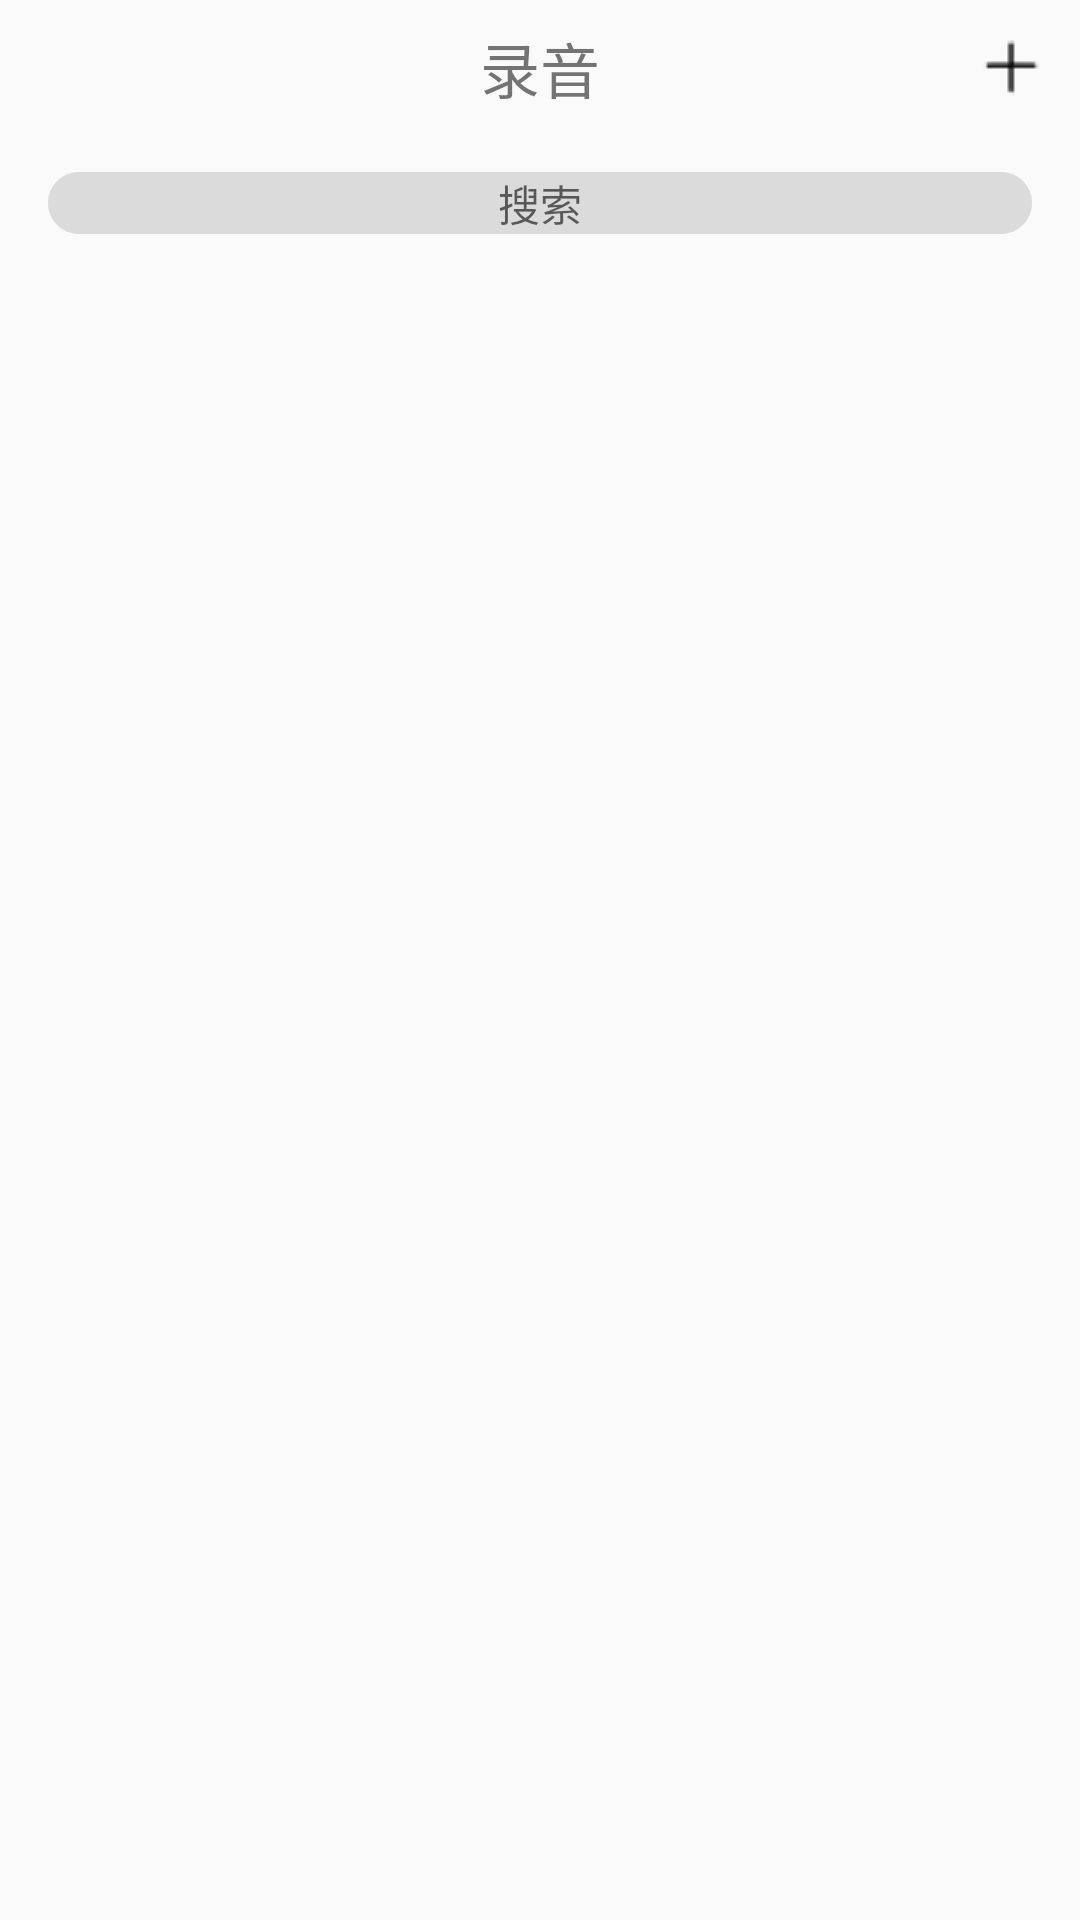

Point at icon controls on the screen. Image size 1080px x 1920px, points as (x=x, y=y).
note add: (x=1012, y=67)
